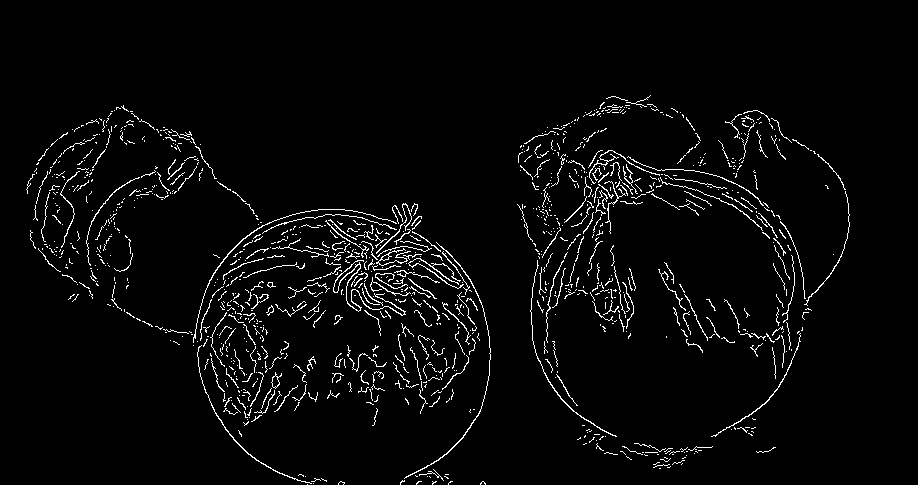red_onion: (522, 150, 811, 463), (197, 203, 489, 467), (511, 85, 701, 265), (81, 154, 279, 324), (722, 99, 866, 273)
